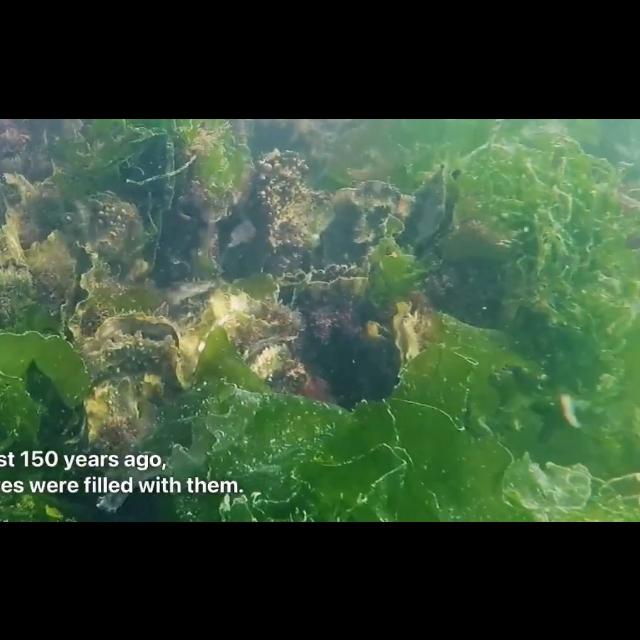Oyster-Closed: (316, 175, 418, 262), (70, 187, 152, 287), (244, 146, 316, 258)
Oyster-Open: (80, 307, 188, 437), (4, 174, 80, 290), (189, 287, 299, 359), (59, 235, 123, 341), (398, 158, 462, 256), (276, 258, 368, 306), (240, 331, 306, 383), (0, 232, 40, 284), (390, 296, 420, 358), (353, 315, 391, 345)
